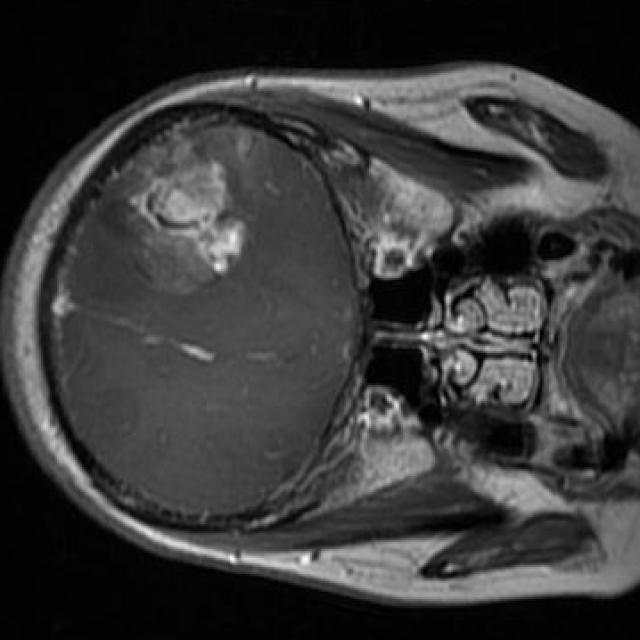glioma: (130, 143, 248, 296)
